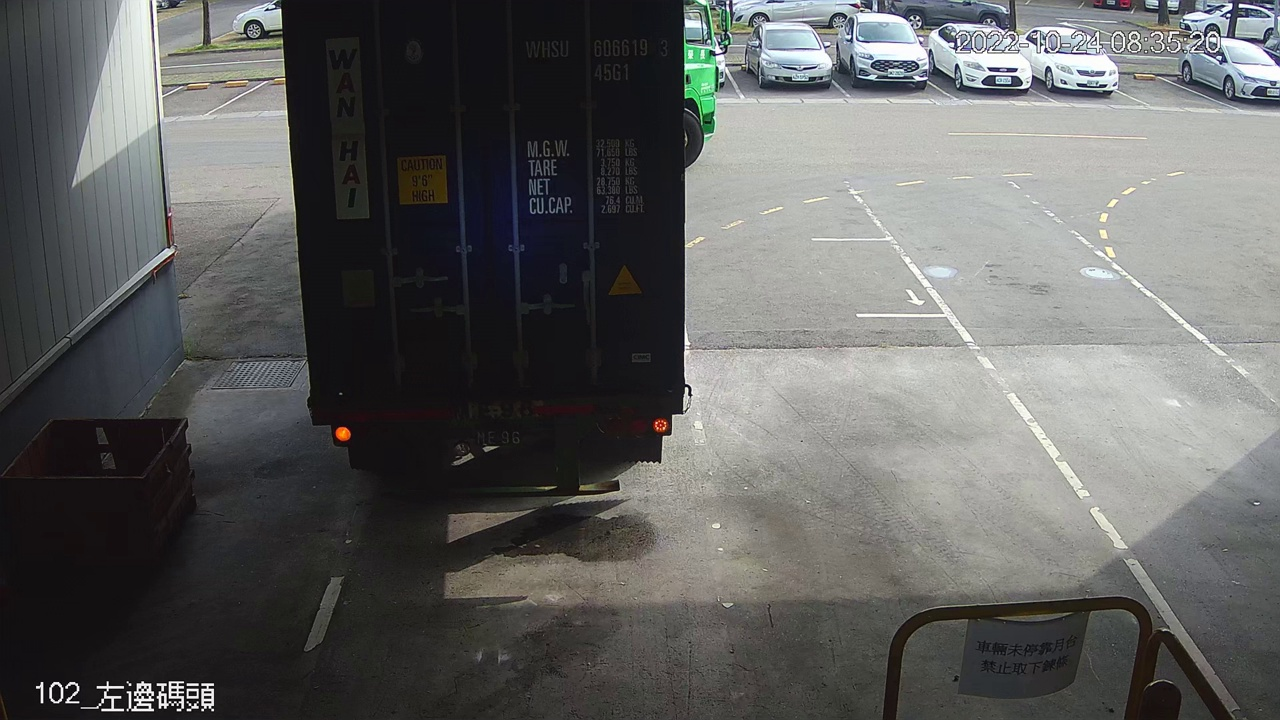container: (517, 30, 676, 88)
